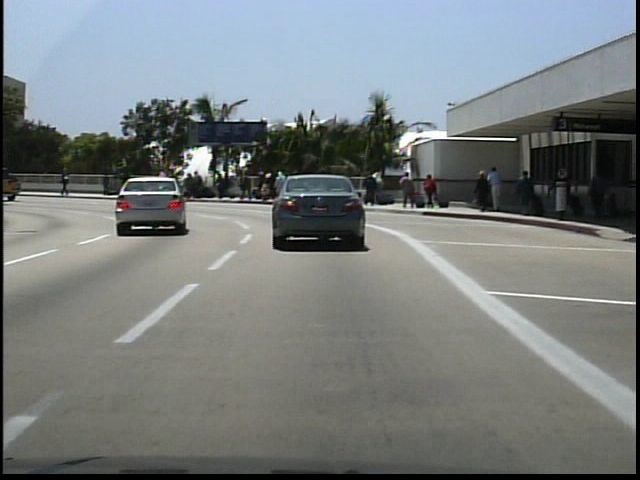person: (587, 163, 613, 222), (514, 165, 539, 219), (557, 163, 578, 219), (486, 164, 508, 217), (475, 167, 495, 217), (400, 170, 419, 212), (424, 169, 442, 210), (364, 170, 382, 208), (99, 170, 117, 199), (121, 169, 137, 199), (60, 167, 74, 197)
